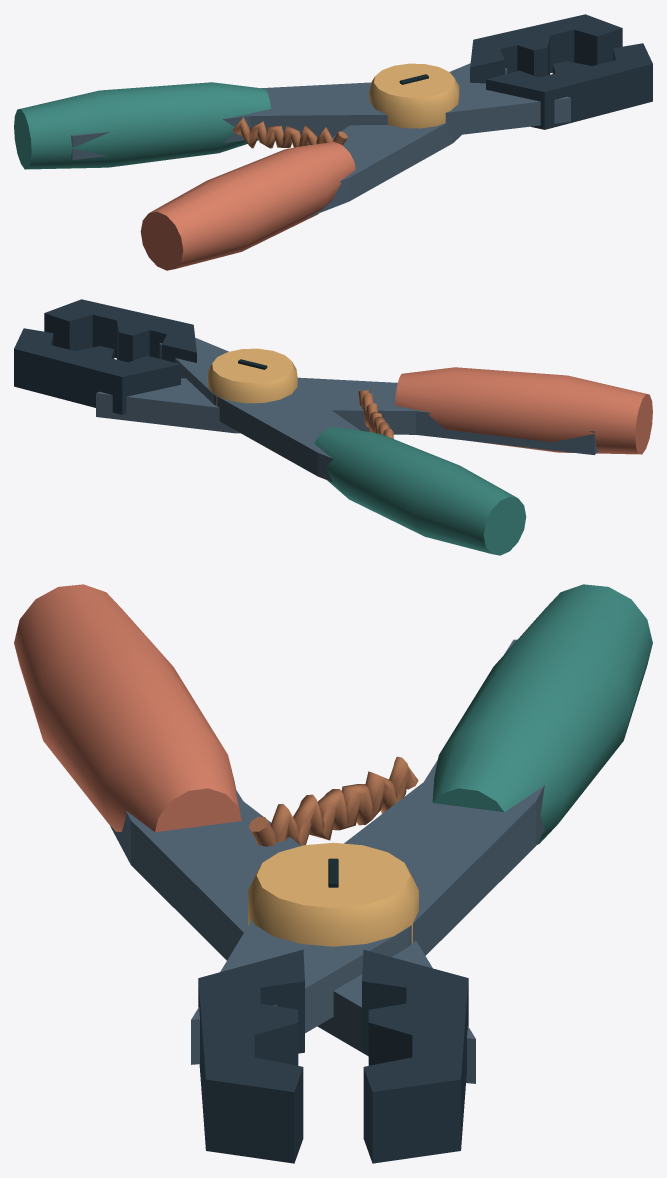
3 views of the same model, one above another, from view 1: azimuth 30°, elevation 25°; view 2: azimuth 150°, elevation 25°; view 3: azimuth 270°, elevation 25° (orthographic). The views are drawn at different scales.
Parts seen in each view (by area): view 1: PR128 enamel and hardware; view 2: PR128 enamel and hardware; view 3: PR128 enamel and hardware.
Boxes of the visible parts, bbox=[...] form: PR128 enamel and hardware: bbox=[14, 14, 652, 270]; PR128 enamel and hardware: bbox=[14, 299, 652, 555]; PR128 enamel and hardware: bbox=[14, 584, 652, 1163].
Size of the model in its own units: 0.32 by 0.0393 by 0.1716.
